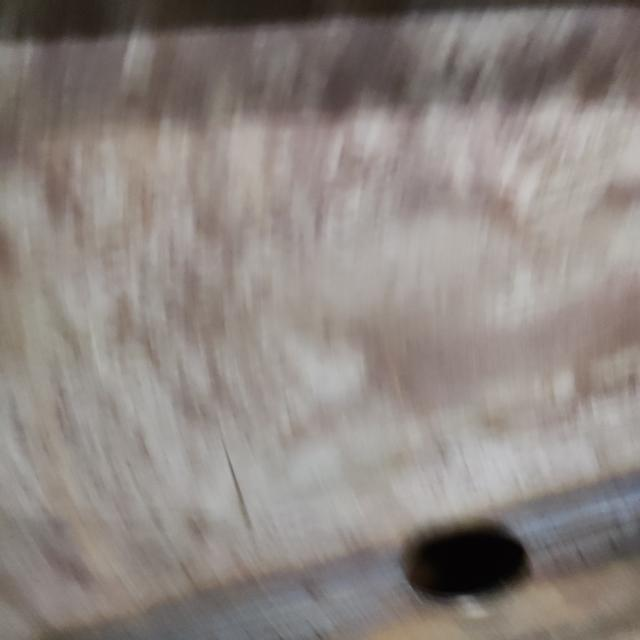seam: (11, 455, 640, 640)
